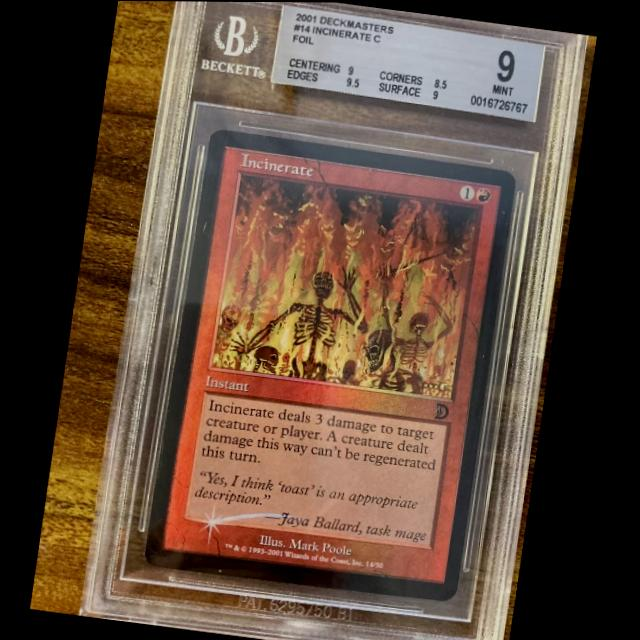bgs_label: (270, 4, 545, 121)
bgs_slab: (80, 1, 589, 640)
card: (143, 127, 519, 601)
